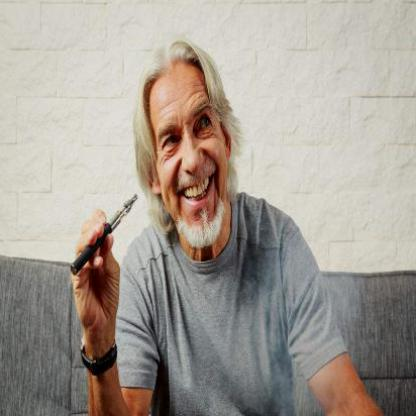cigarette: (68, 194, 139, 277)
person: (114, 41, 342, 415)
